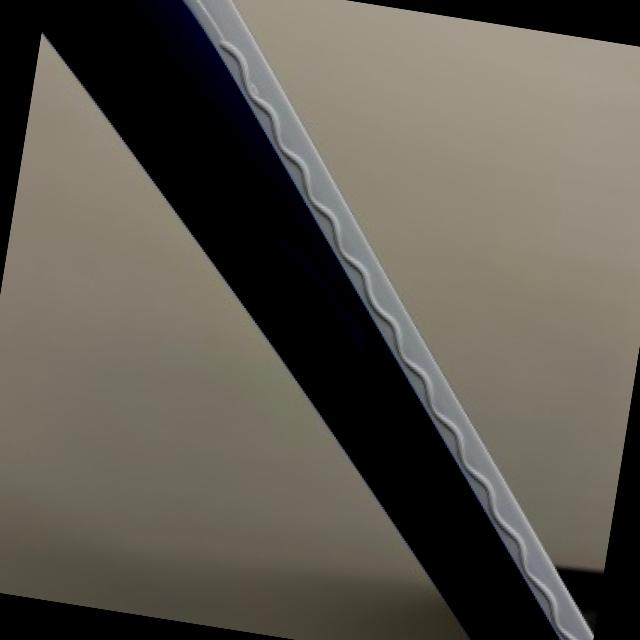healthy: (42, 0, 592, 640)
